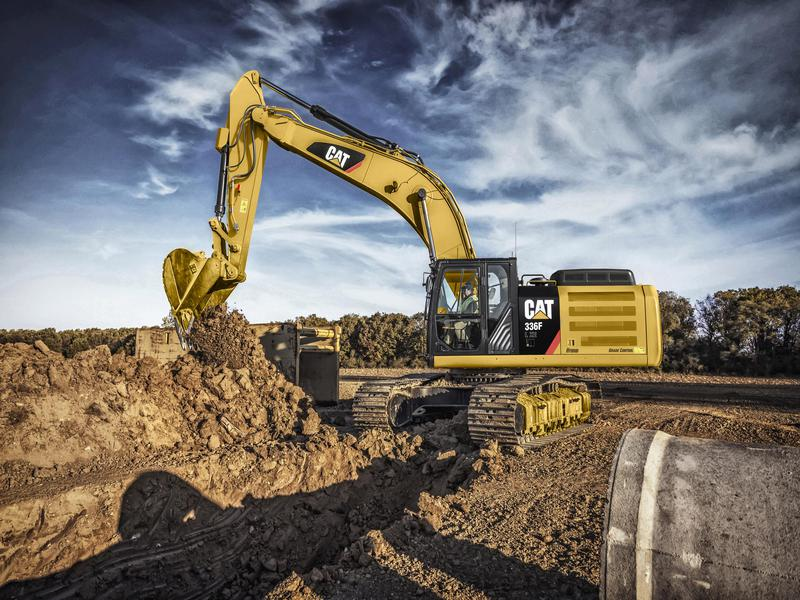shovel: (157, 68, 664, 456)
